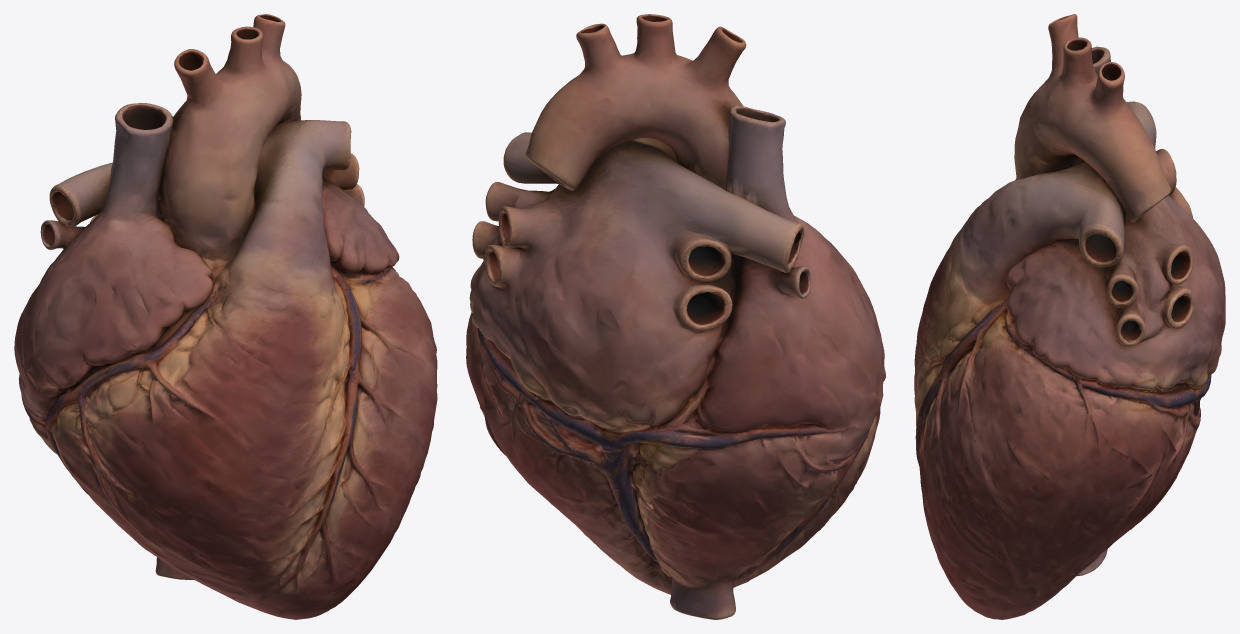
File: heart-v7.glb
The picture shows the model from 3 angles, left to right: view 1: azimuth 30°, elevation 25°; view 2: azimuth 150°, elevation 25°; view 3: azimuth 270°, elevation 25°; orthographic projection. The views are drawn at different scales.
Parts seen in each view (by area): view 1: tripo_node_0d69f6d3-4364-422c-a29c-60da55116b45; view 2: tripo_node_0d69f6d3-4364-422c-a29c-60da55116b45; view 3: tripo_node_0d69f6d3-4364-422c-a29c-60da55116b45.
Boxes of the visible parts, bbox=[...] form: tripo_node_0d69f6d3-4364-422c-a29c-60da55116b45: bbox=[14, 14, 437, 619]; tripo_node_0d69f6d3-4364-422c-a29c-60da55116b45: bbox=[466, 14, 885, 619]; tripo_node_0d69f6d3-4364-422c-a29c-60da55116b45: bbox=[914, 14, 1225, 619].
Bounding box in the file's own units: 0.7081 × 1 × 0.4998.
Materials: 1 (1 with a texture image).
